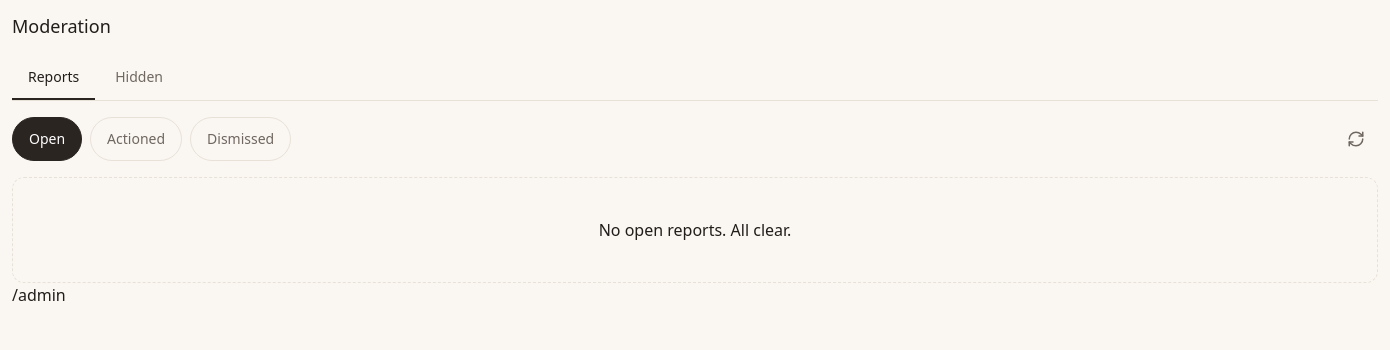
it: sections › opens the Hidden section from the address and with a click
Step 1. Click the button "Hidden" → {"x": 139, "y": 78}, box [99,56,179,100]
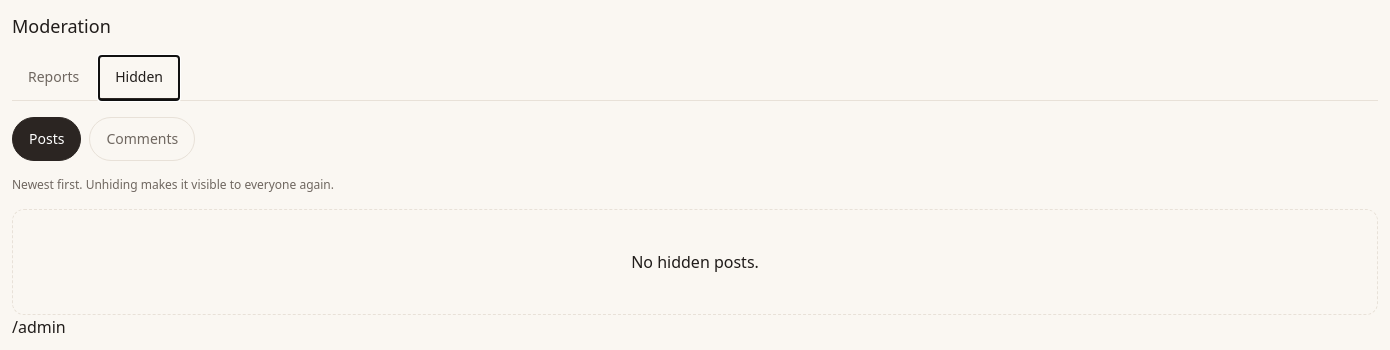
Check: the text "No hidden posts." is shown, box [631,251,759,273]
